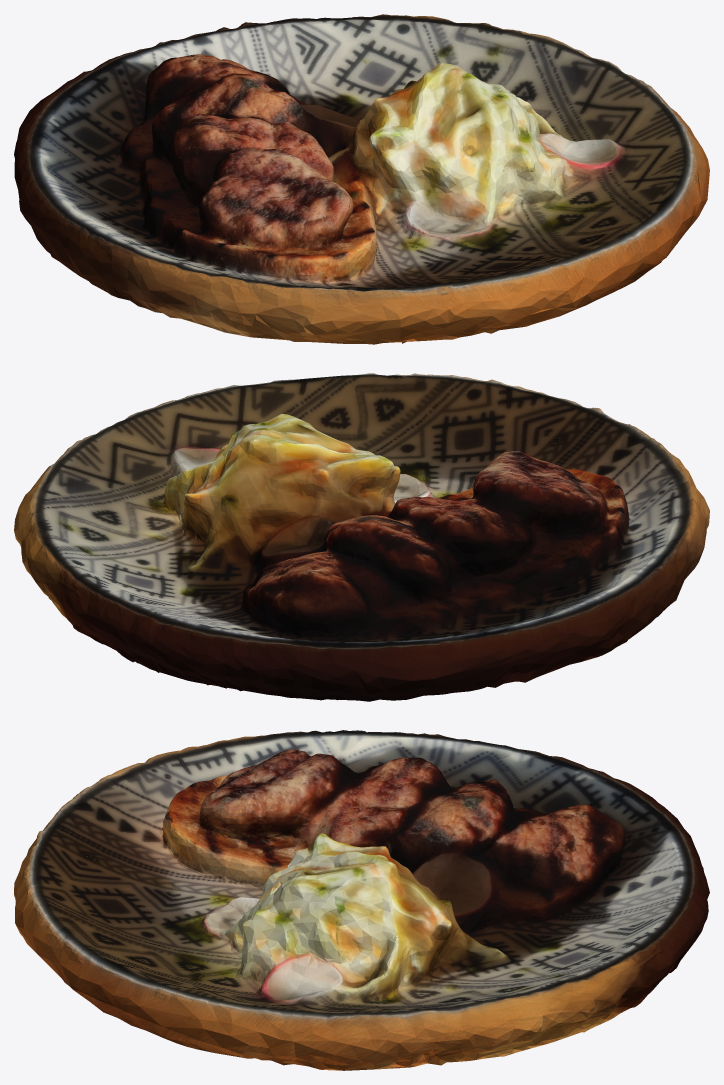
File: kofte.glb
3 renders of one model, top to bottom at view 1: azimuth 30°, elevation 25°; view 2: azimuth 150°, elevation 25°; view 3: azimuth 270°, elevation 25°, orthographic.
Parts seen in each view (by area): view 1: Mesh_0; view 2: Mesh_0; view 3: Mesh_0.
Part boxes in pixels (x1,y1,x2,y2): Mesh_0: (14,14,709,344); Mesh_0: (14,373,709,701); Mesh_0: (14,730,709,1070).
Size of the model in its own units: 1.12 by 0.2074 by 1.13.
1 material, 1 textured.
